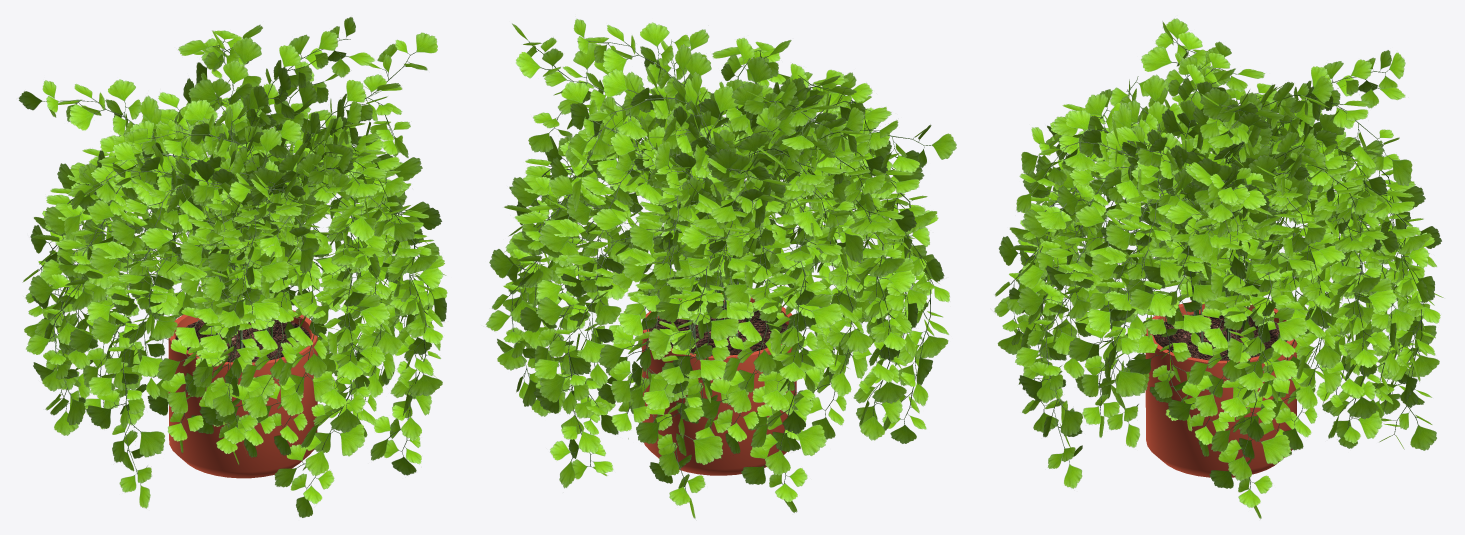
File: fern.glb
The picture shows the model from 3 angles, left to right: view 1: azimuth 30°, elevation 25°; view 2: azimuth 150°, elevation 25°; view 3: azimuth 270°, elevation 25°; orthographic projection. The views are drawn at different scales.
Parts seen in each view (by area): view 1: Cube.011_MaidenhairFern_leaf_0, Cylinder.010_Flowerpot3_0, Cylinder.011_Soil_0; view 2: Cube.011_MaidenhairFern_leaf_0, Cylinder.010_Flowerpot3_0, Cylinder.011_Soil_0; view 3: Cube.011_MaidenhairFern_leaf_0, Cylinder.010_Flowerpot3_0, Cylinder.011_Soil_0.
Part boxes in pixels (left/top/right/bottom): Cube.011_MaidenhairFern_leaf_0: left=19, top=17, right=447, bottom=517; Cylinder.010_Flowerpot3_0: left=168, top=310, right=317, bottom=478; Cylinder.011_Soil_0: left=175, top=320, right=310, bottom=362; Cube.011_MaidenhairFern_leaf_0: left=485, top=18, right=956, bottom=518; Cylinder.010_Flowerpot3_0: left=642, top=293, right=796, bottom=475; Cylinder.011_Soil_0: left=649, top=306, right=787, bottom=355; Cube.011_MaidenhairFern_leaf_0: left=994, top=18, right=1443, bottom=518; Cylinder.010_Flowerpot3_0: left=1145, top=301, right=1296, bottom=477; Cylinder.011_Soil_0: left=1153, top=313, right=1287, bottom=360.
Bounding box in the file's own units: 1.08 × 1.01 × 1.05.
Materials: 3 (2 with a texture image).
